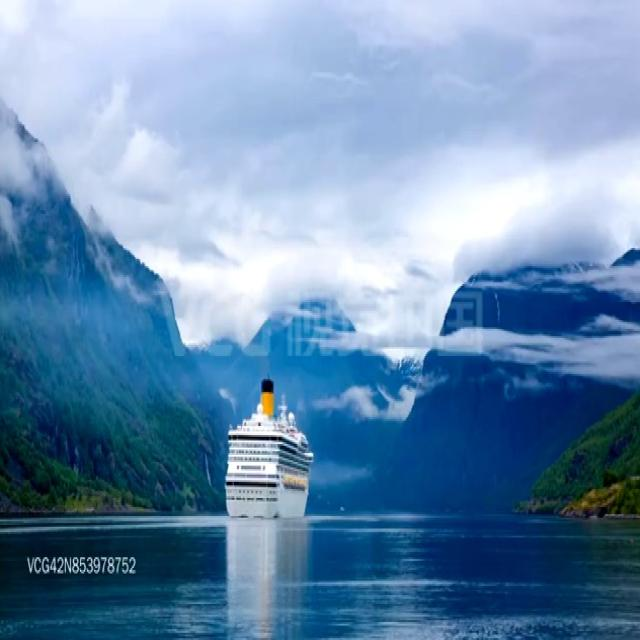passenger ship: (225, 372, 311, 521)
